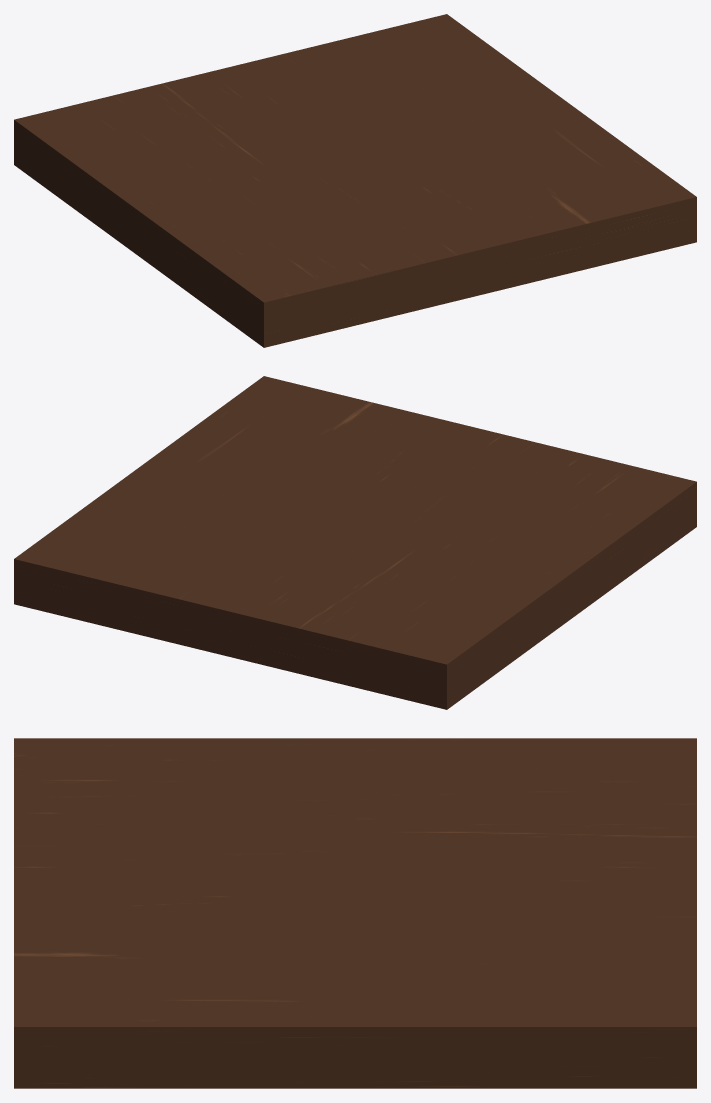
Rendered from light_shikaku.fbx.
The picture shows the model from 3 angles, top to bottom: view 1: azimuth 30°, elevation 25°; view 2: azimuth 150°, elevation 25°; view 3: azimuth 270°, elevation 25°; orthographic projection. The views are drawn at different scales.
Parts seen in each view (by area): view 1: light_shikaku_01; view 2: light_shikaku_01; view 3: light_shikaku_01.
Boxes of the visible parts, x1,y1,x2,y2 form: light_shikaku_01: (14,14,696,347); light_shikaku_01: (14,376,696,709); light_shikaku_01: (14,738,696,1088).
Size of the model in its own units: 1 by 0.1 by 1.
2 materials, 1 textured.
